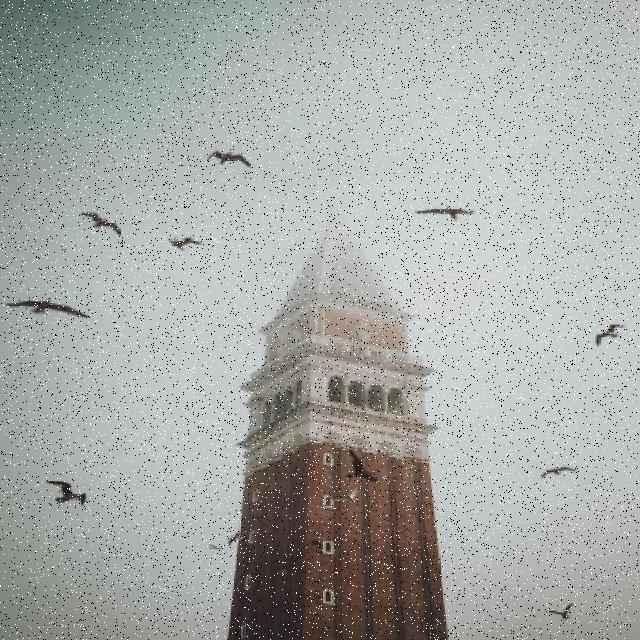bird: (5, 298, 91, 318), (346, 448, 380, 482), (44, 481, 87, 507), (78, 212, 122, 236), (414, 204, 476, 220), (208, 150, 252, 168), (596, 324, 624, 346), (330, 486, 364, 503), (168, 236, 202, 252), (545, 602, 573, 620), (541, 466, 577, 479), (228, 532, 244, 546), (308, 538, 330, 548), (208, 544, 226, 552), (278, 572, 288, 580)
